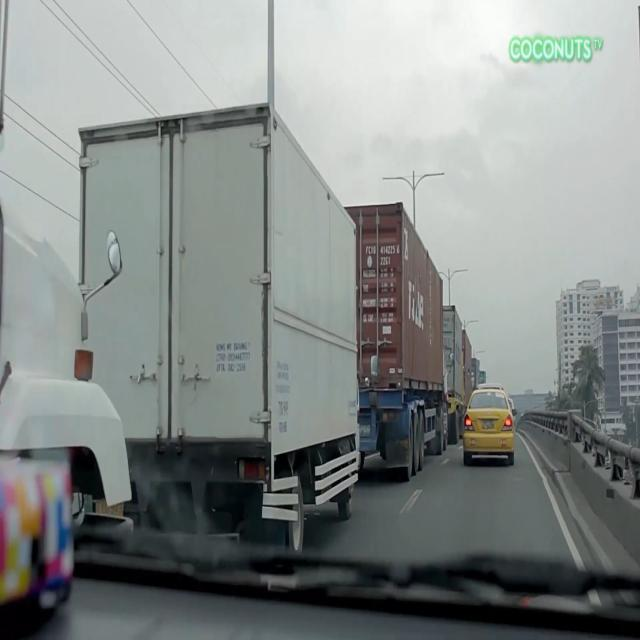truck: (80, 96, 377, 558), (346, 203, 450, 481), (442, 305, 464, 448)
